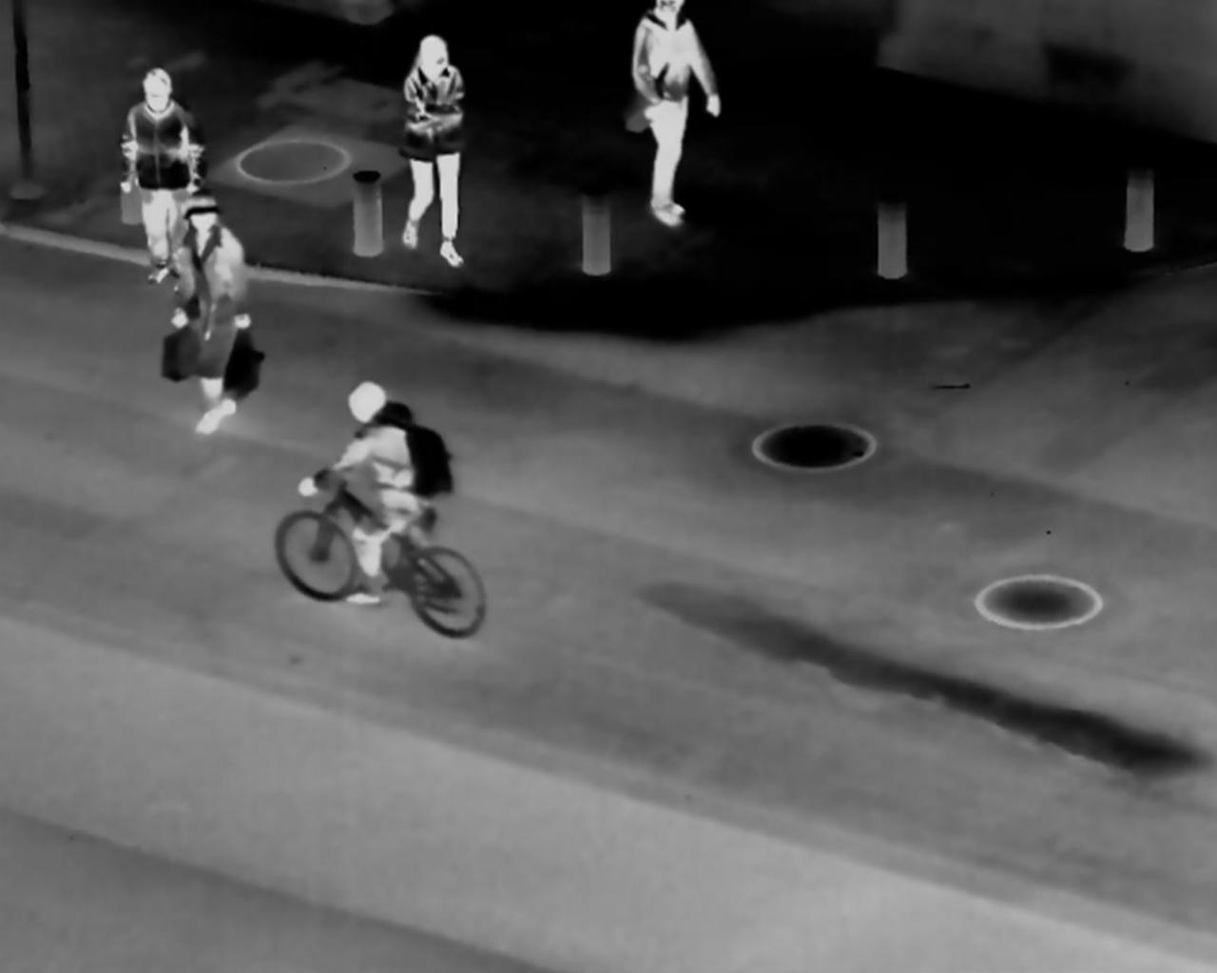person: (299, 369, 449, 599), (112, 60, 214, 304), (163, 201, 268, 437), (388, 31, 479, 272)
